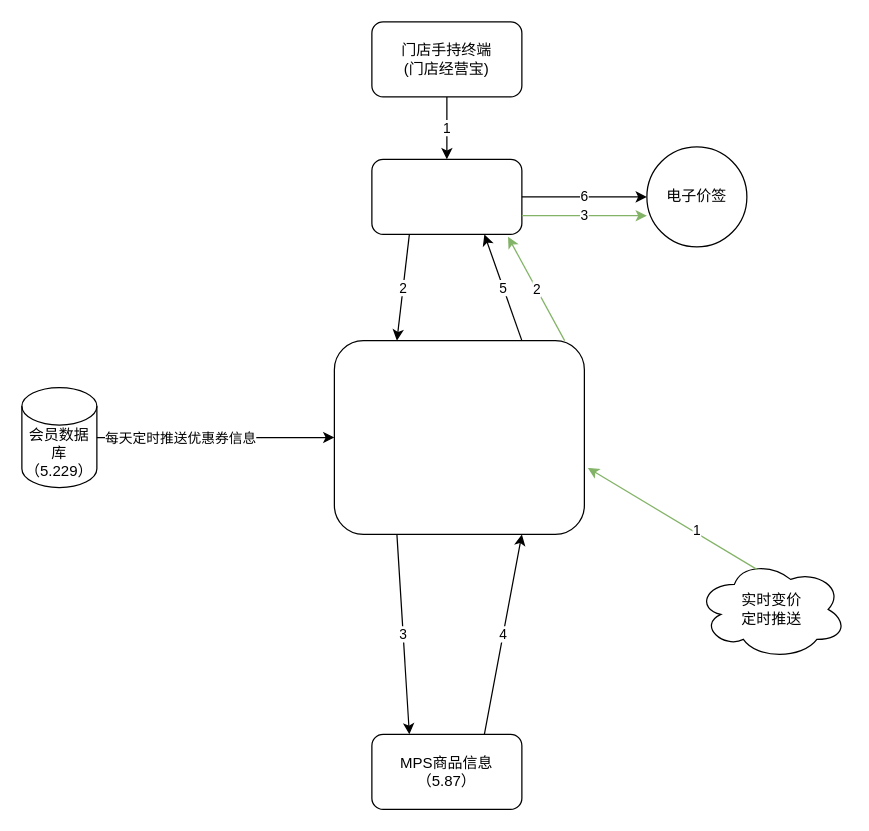
The diagram is 869 pixels wide and 831 high, and some of its shapes have lost their labels. The shapes that lost their labels are listed below. From the top down, each one's centre as x and y in pixels, then its label:
the point at 446,196: 汉朔服务器 (192.168.5.211)
the point at 458,436: IOT电子价签 （1、路由与价签的关系， 2、商品与价签的绑定关系， 3、价签与门店的绑定关系， 4、价签模板信息， 5、商品优惠券信息） (5.22)
